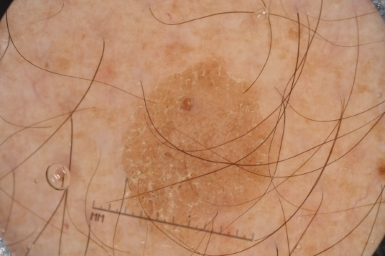seborrheic keratosis: (101, 50, 282, 201)
